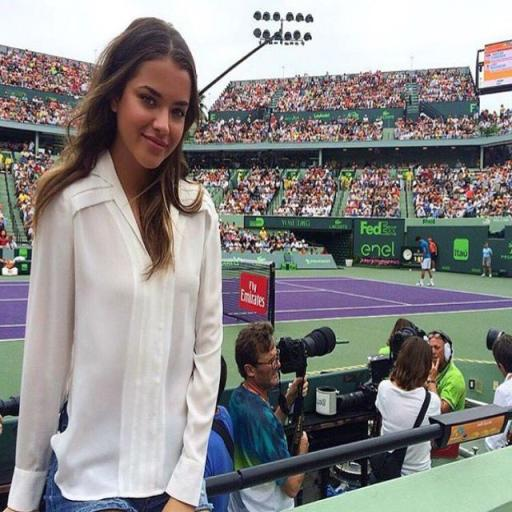Emirates: (234, 271, 268, 315)
